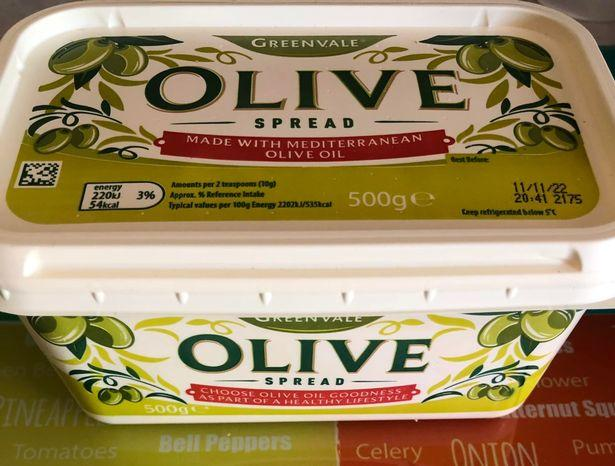plastic: (0, 0, 615, 429)
